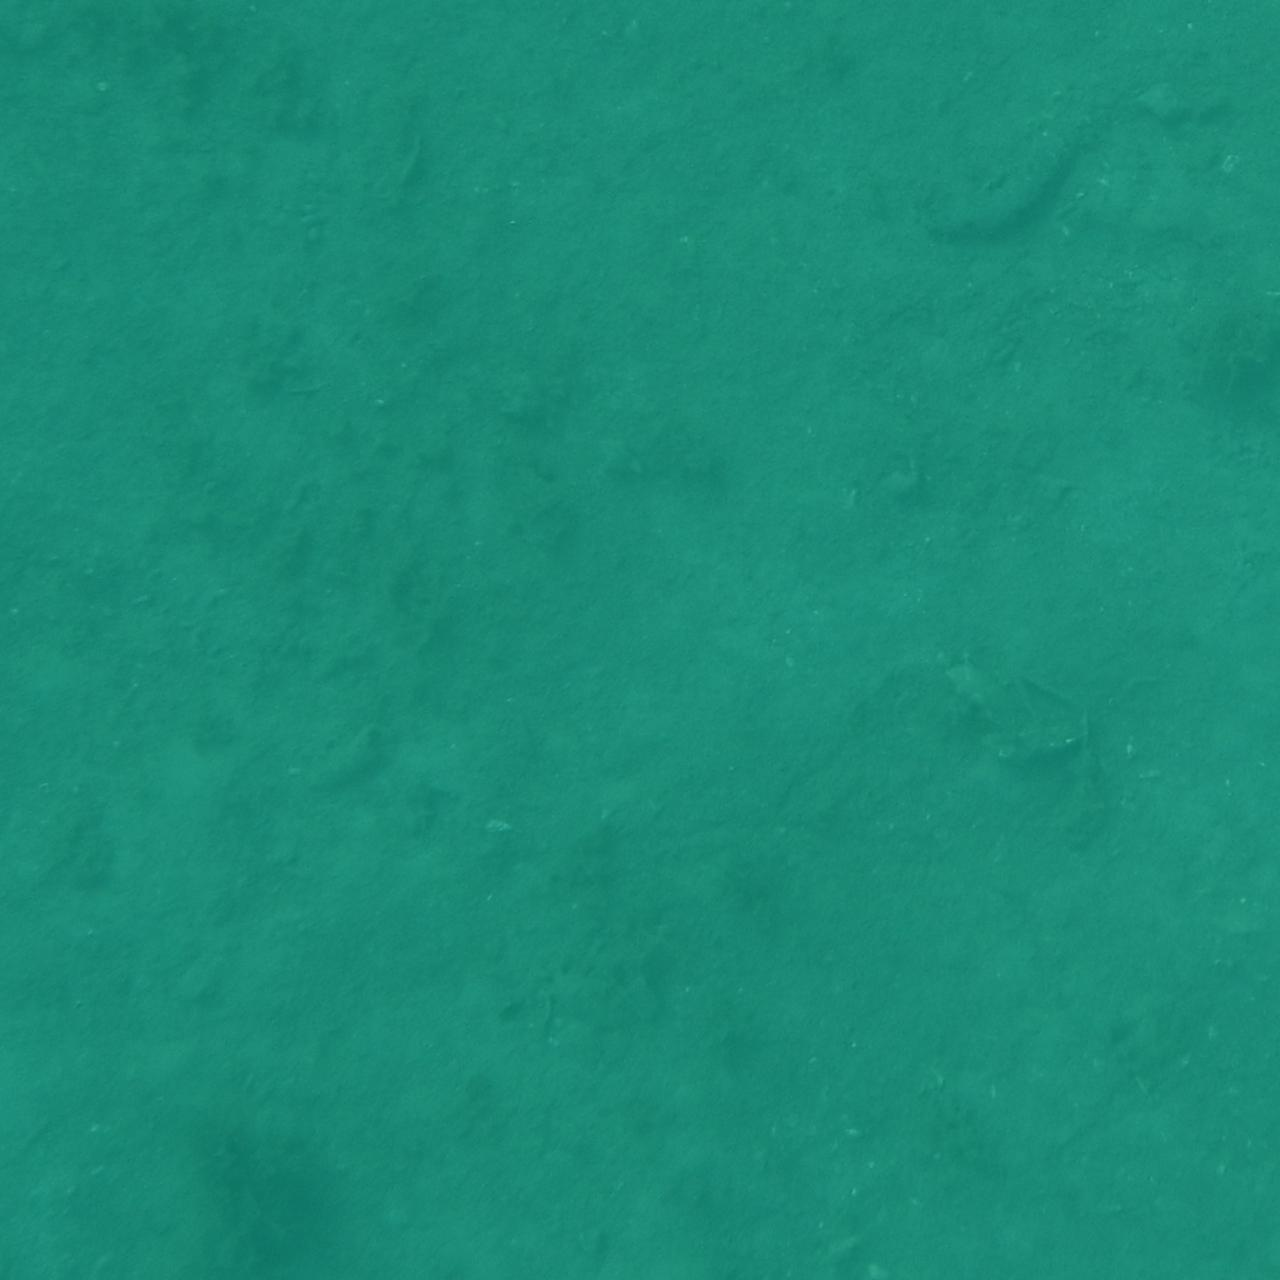Holothuria tubulosa: (920, 89, 1123, 252), (1185, 305, 1280, 565), (0, 433, 139, 583), (0, 1099, 116, 1279), (368, 0, 675, 56), (1191, 54, 1280, 238), (1164, 300, 1280, 418), (0, 0, 70, 123), (0, 1227, 103, 1280)
